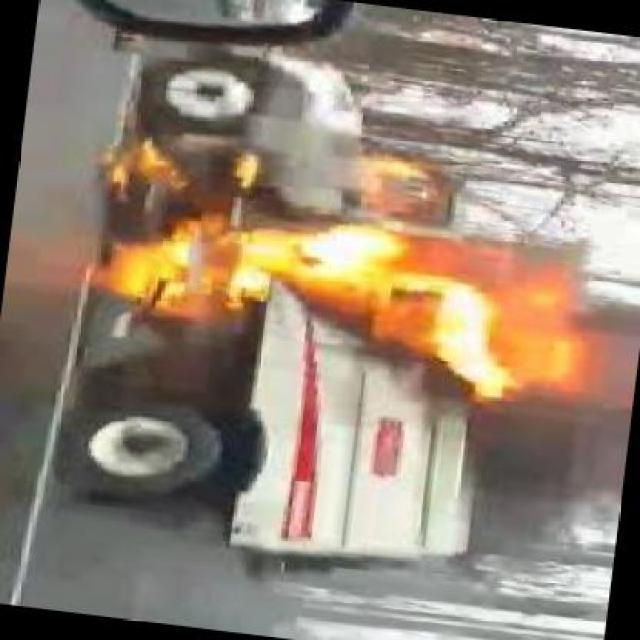Fire: (98, 203, 528, 404)
Smoke: (487, 414, 614, 564)
